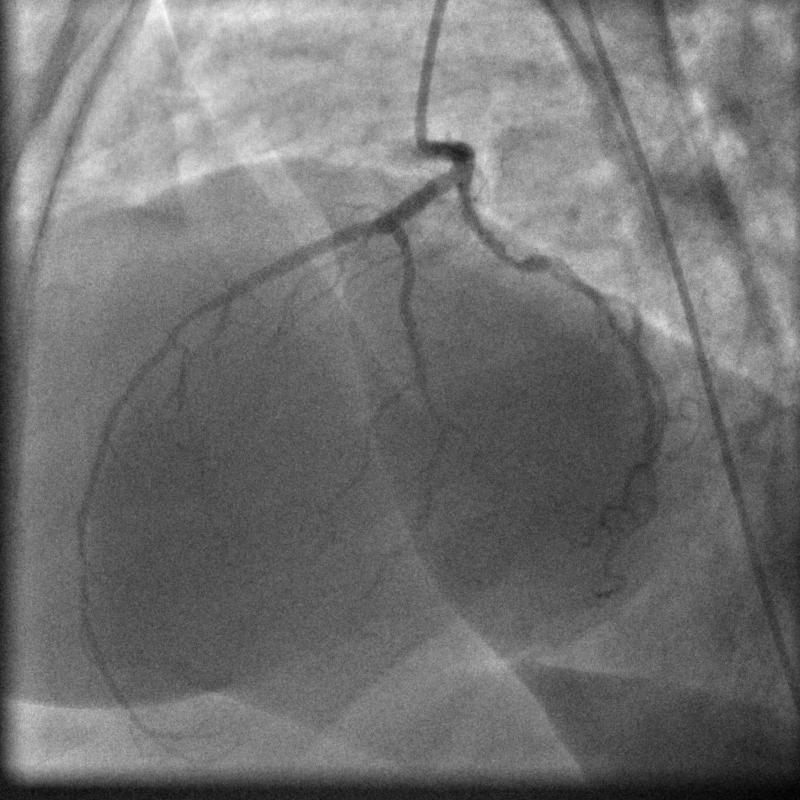Stenosis: (497, 230, 535, 283)
